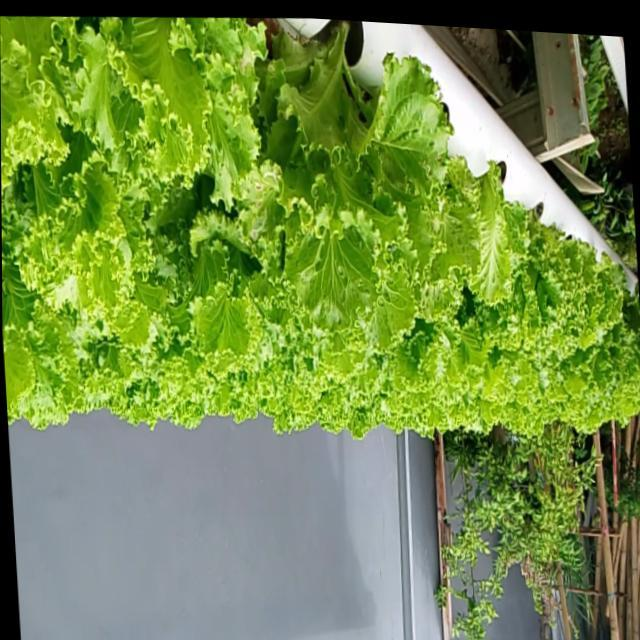Mature: (0, 16, 640, 449), (270, 35, 465, 333), (493, 189, 636, 404)
